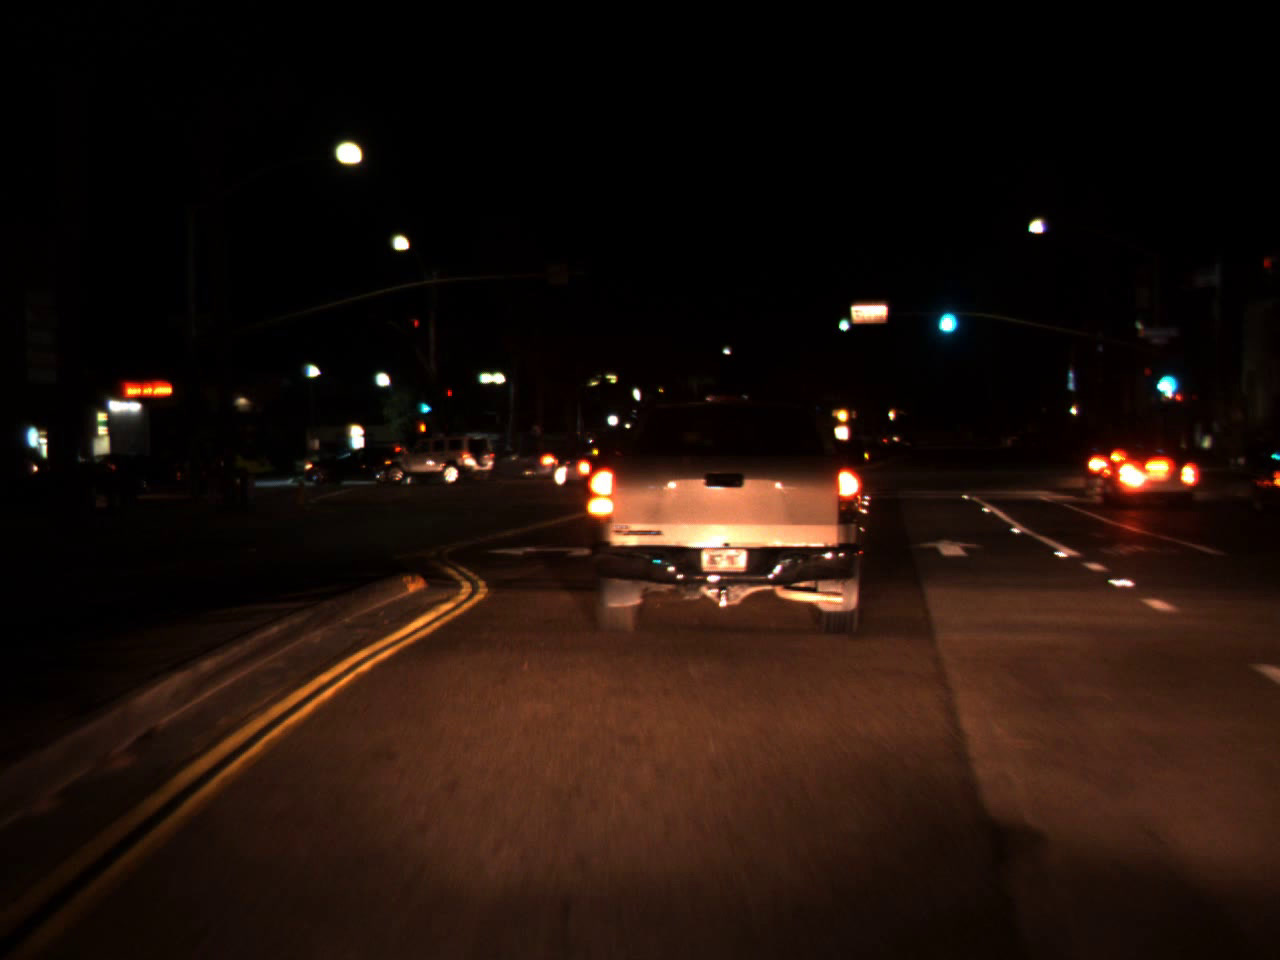go: (932, 287, 959, 341), (1148, 355, 1178, 400), (415, 384, 436, 419), (836, 312, 850, 327)
